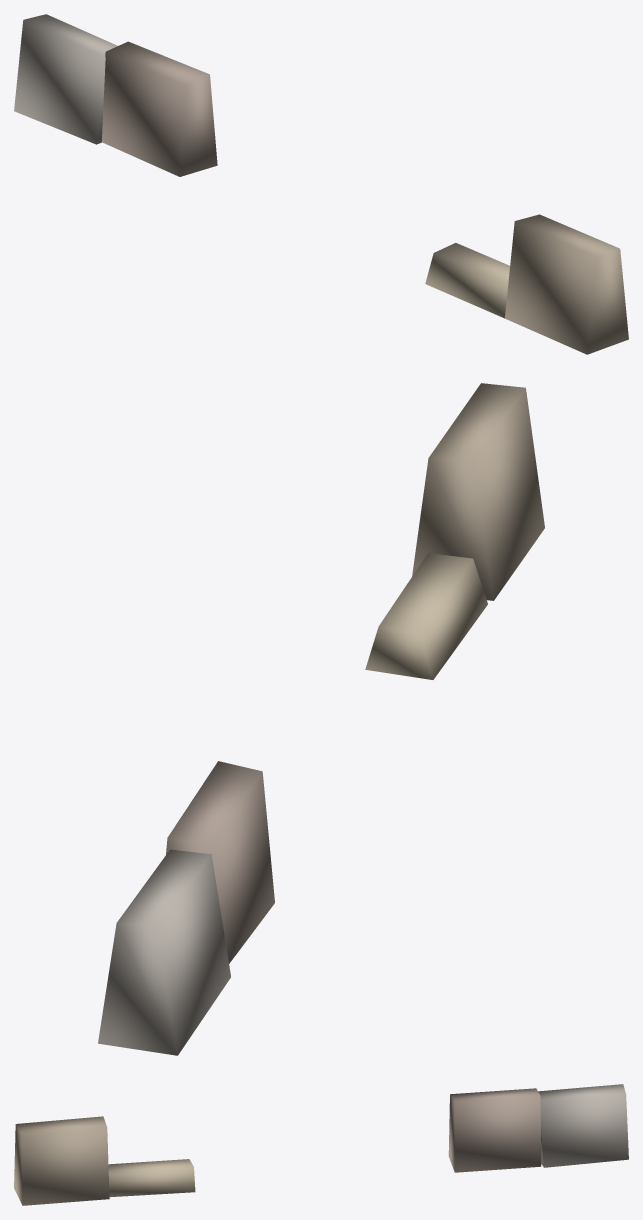
The model's file is farm_-1_14_far.glb.
The picture shows the model from 3 angles, top to bottom: view 1: azimuth 30°, elevation 25°; view 2: azimuth 150°, elevation 25°; view 3: azimuth 270°, elevation 25°; orthographic projection. The views are drawn at different scales.
Parts seen in each view (by area): view 1: geometry_0; view 2: geometry_0; view 3: geometry_0.
Boxes of the visible parts, bbox=[...] form: geometry_0: bbox=[14, 14, 628, 354]; geometry_0: bbox=[98, 383, 544, 1055]; geometry_0: bbox=[14, 1084, 628, 1205].
Size of the model in its own units: 3.07 by 1.56 by 10.6.
